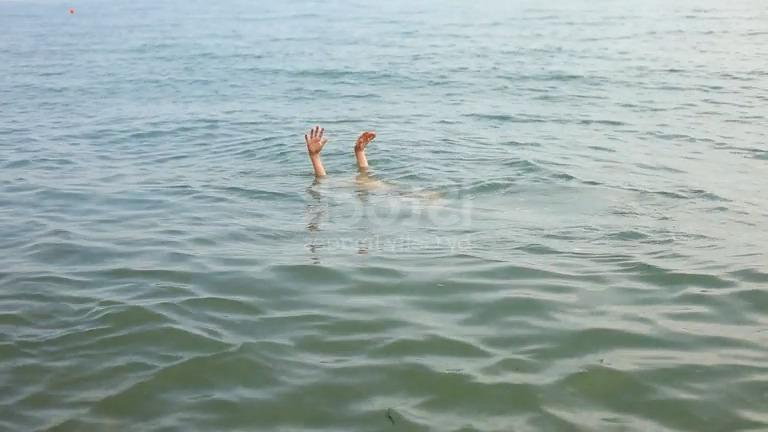Drowning: (244, 88, 555, 235)
